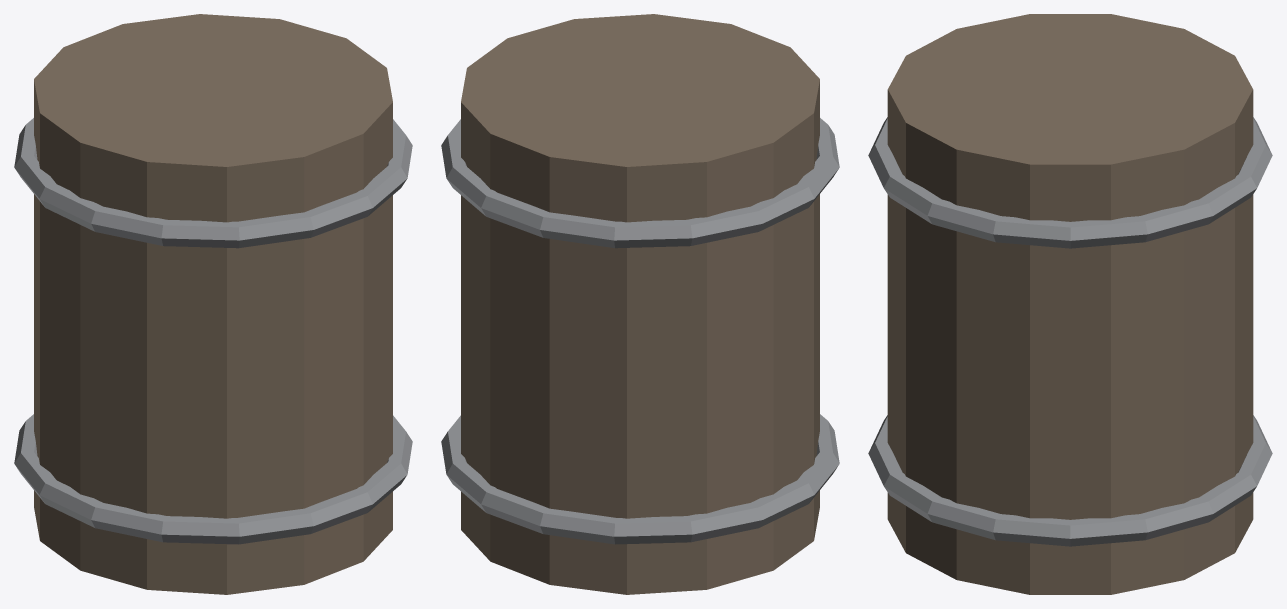
Rendered from Barrel.fbx.
3 renders of one model, left to right at view 1: azimuth 30°, elevation 25°; view 2: azimuth 150°, elevation 25°; view 3: azimuth 270°, elevation 25°, orthographic.
Visible parts, largest first — view 1: Barrel; view 2: Barrel; view 3: Barrel.
Part boxes in pixels (left/top/right/bottom): Barrel: left=14, top=14, right=412, bottom=594; Barrel: left=441, top=14, right=839, bottom=594; Barrel: left=868, top=14, right=1272, bottom=594.
Size of the model in its own units: 66.4 by 78 by 66.4.
